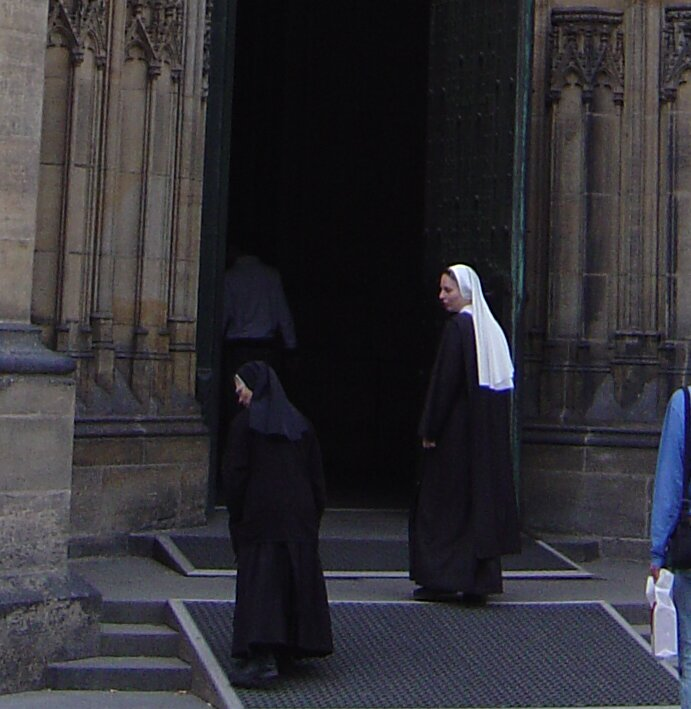person: (411, 259, 545, 606), (211, 348, 341, 691)
